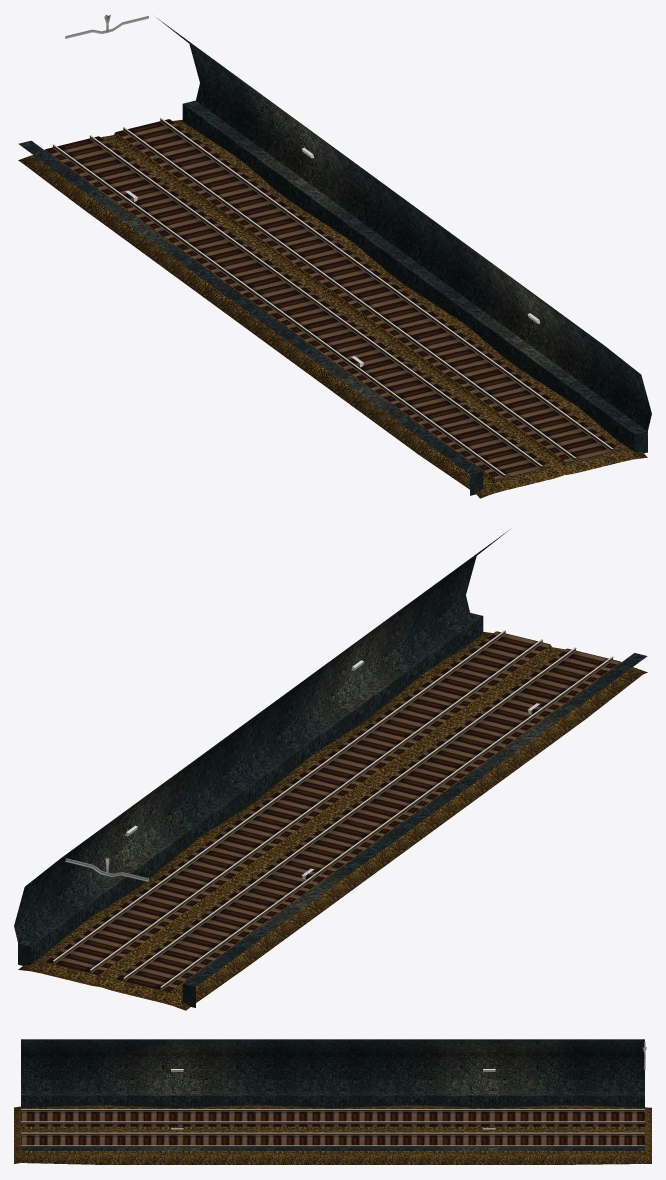
Rendered from K_OUSAKA.glb.
3 renders of one model, top to bottom at view 1: azimuth 30°, elevation 25°; view 2: azimuth 150°, elevation 25°; view 3: azimuth 270°, elevation 25°, orthographic. The views are drawn at different scales.
Visible parts, largest first — view 1: obj1; view 2: obj1; view 3: obj1.
Boxes of the visible parts, <box> form: obj1: <box>18,18,651,498</box>; obj1: <box>14,529,647,1010</box>; obj1: <box>14,1039,651,1164</box>.
Size of the model in its own units: 23.76 by 15.82 by 102.
Materials: 7 (5 with a texture image).
